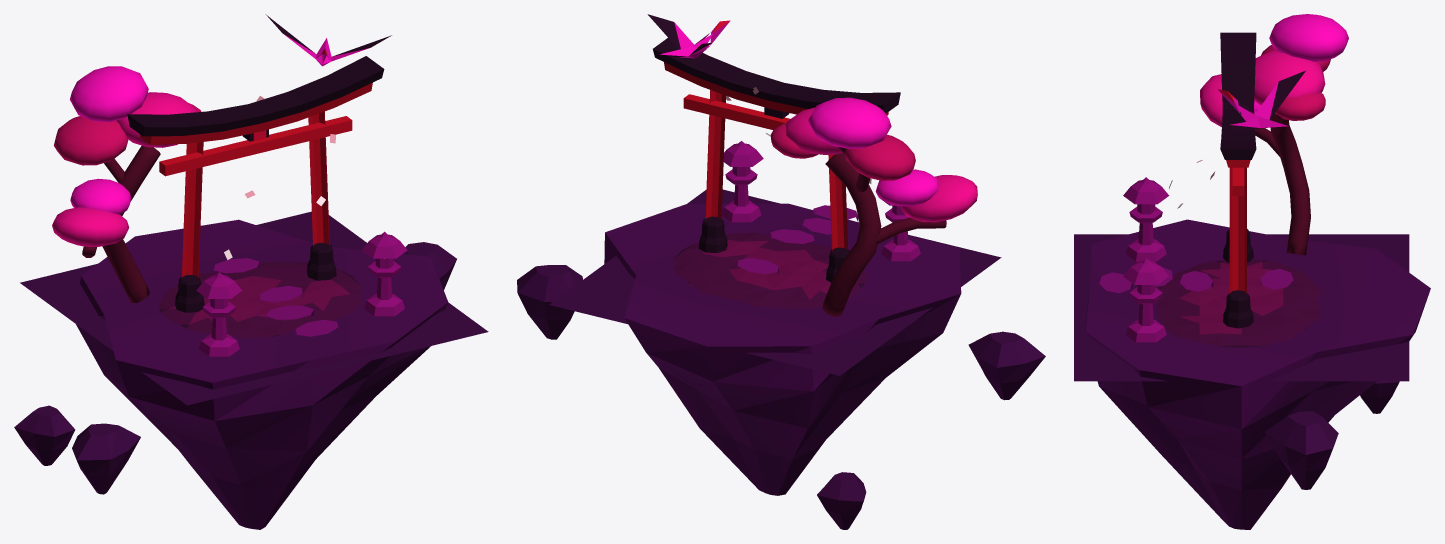
File: sky_shrine_lowpoly.glb
3 views of the same model, side by side, from view 1: azimuth 30°, elevation 25°; view 2: azimuth 150°, elevation 25°; view 3: azimuth 270°, elevation 25° (orthographic). The views are drawn at different scales.
Parts seen in each view (by area): view 1: TesselAsset; view 2: TesselAsset; view 3: TesselAsset.
Boxes of the visible parts, x1,y1,x2,y2 form: TesselAsset: (14, 14, 488, 529); TesselAsset: (517, 14, 1045, 529); TesselAsset: (1074, 14, 1430, 529).
Size of the model in its own units: 8.31 by 8.13 by 5.54.
Materials: 12 (12 with a texture image).
